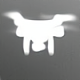plane: (1, 10, 80, 56)
